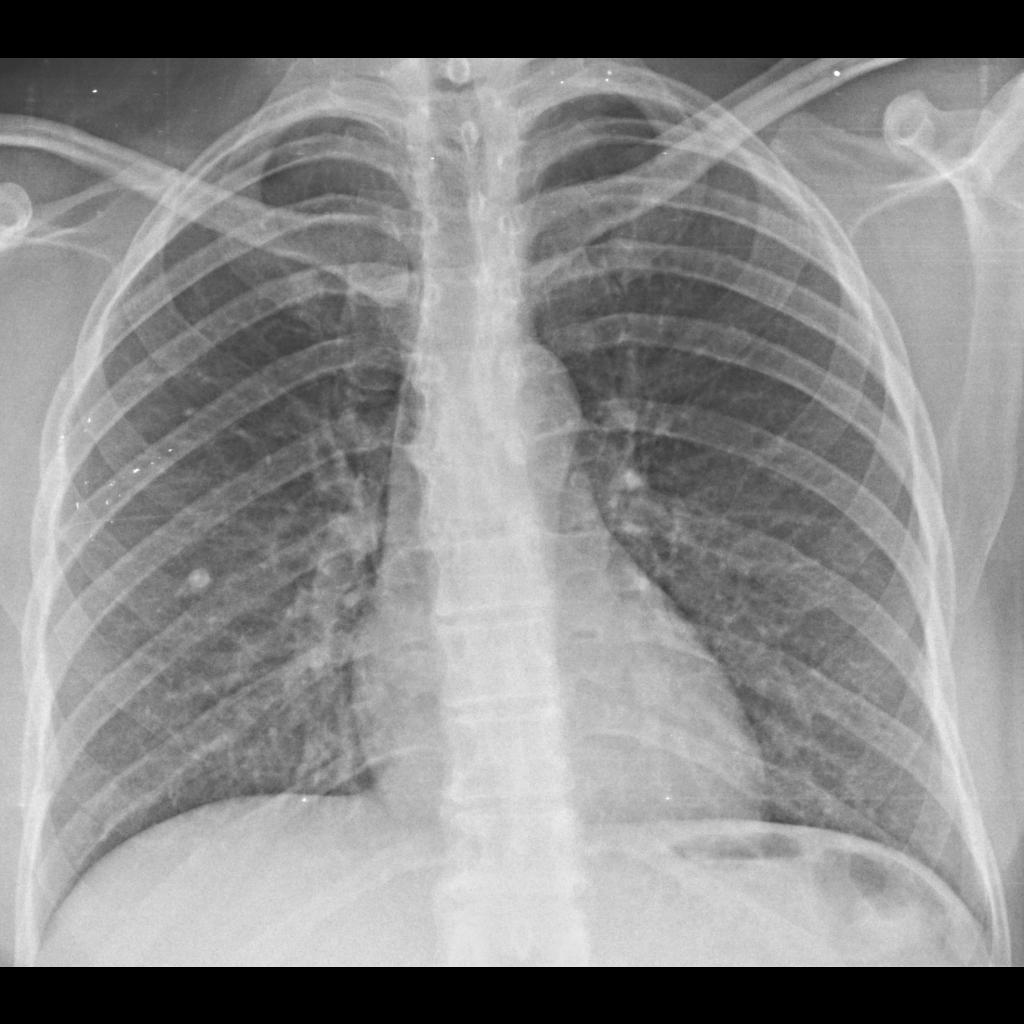Nodule: (168, 559, 230, 602)
